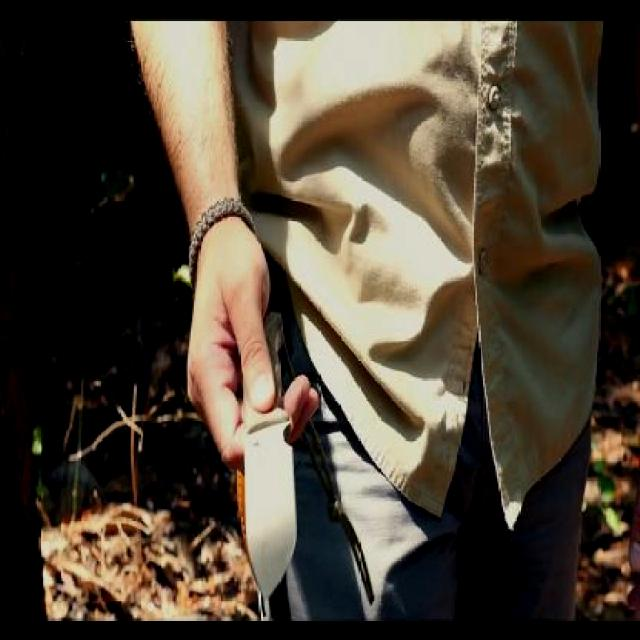knife: (185, 305, 322, 609)
